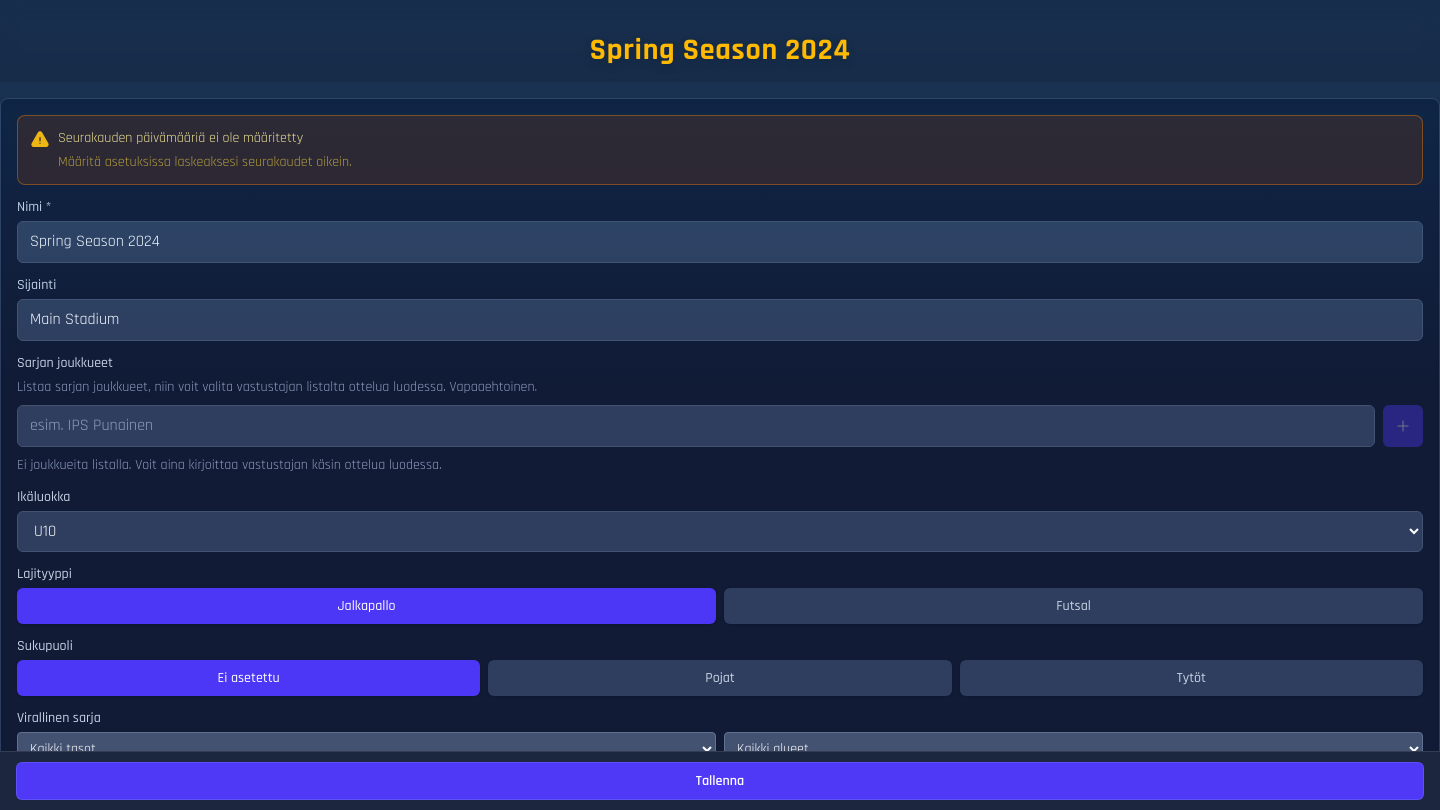
Test: SeasonDetailsModal › disables Save button when name is empty
Clear the field showing "Spring Season 2024" below "Nimi" at point(720, 242), box [17,220,1423,262]
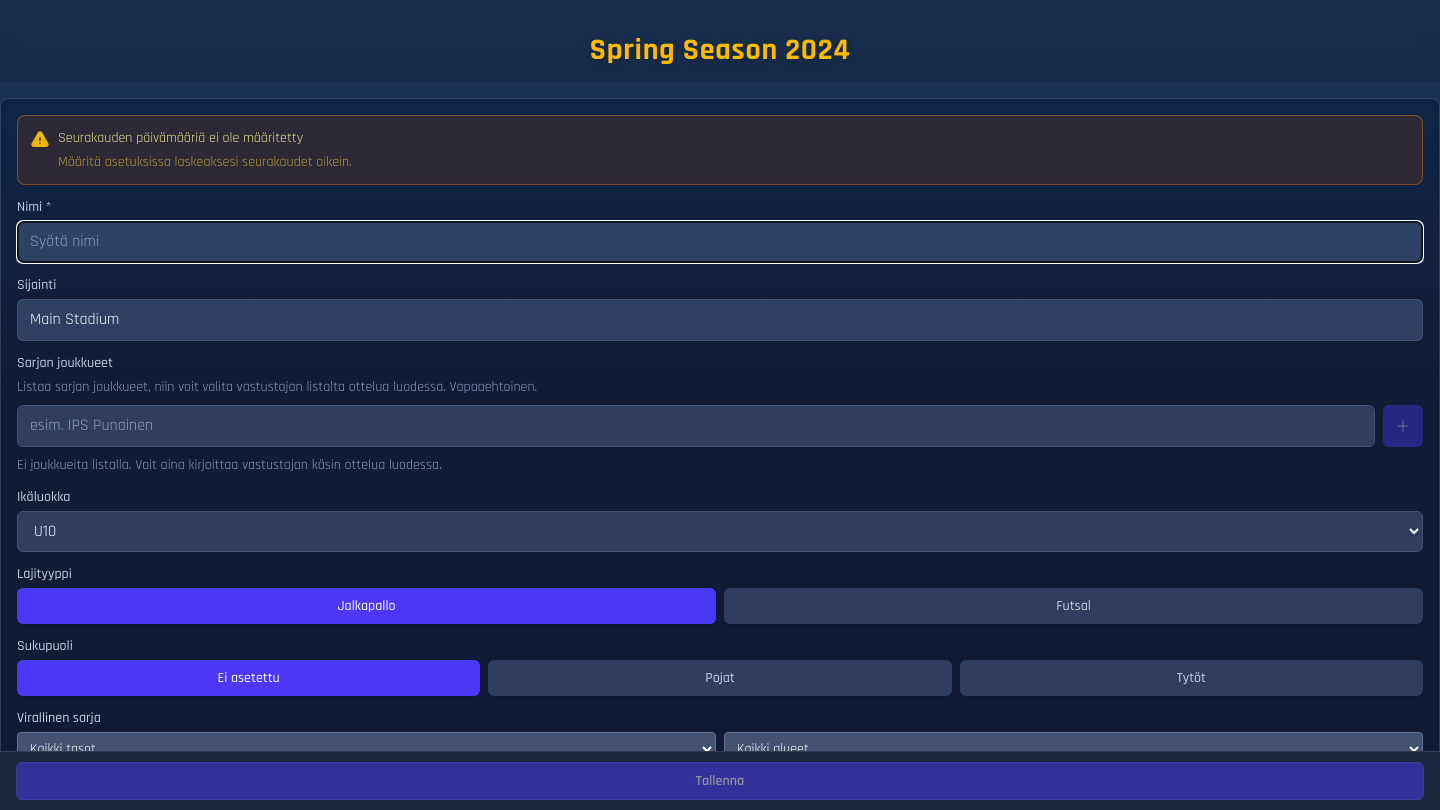
expect the button "Tallenna" is disabled: met, box [16,762,1424,800]
